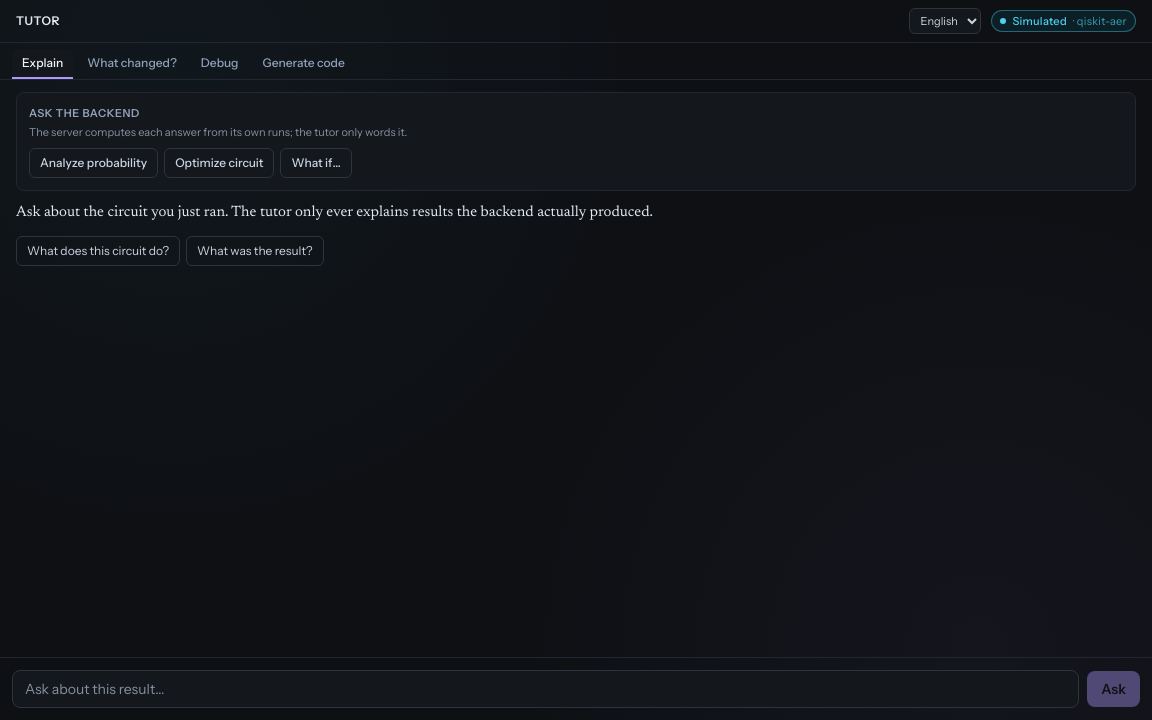
Test case: TutorPanel › renders a grounded answer with its facts and provenance reference
The image size is (1152, 720).
Type "What was the result?" into the field with placeholder "Ask about this result…" at (546,689), box [12,670,1079,708]
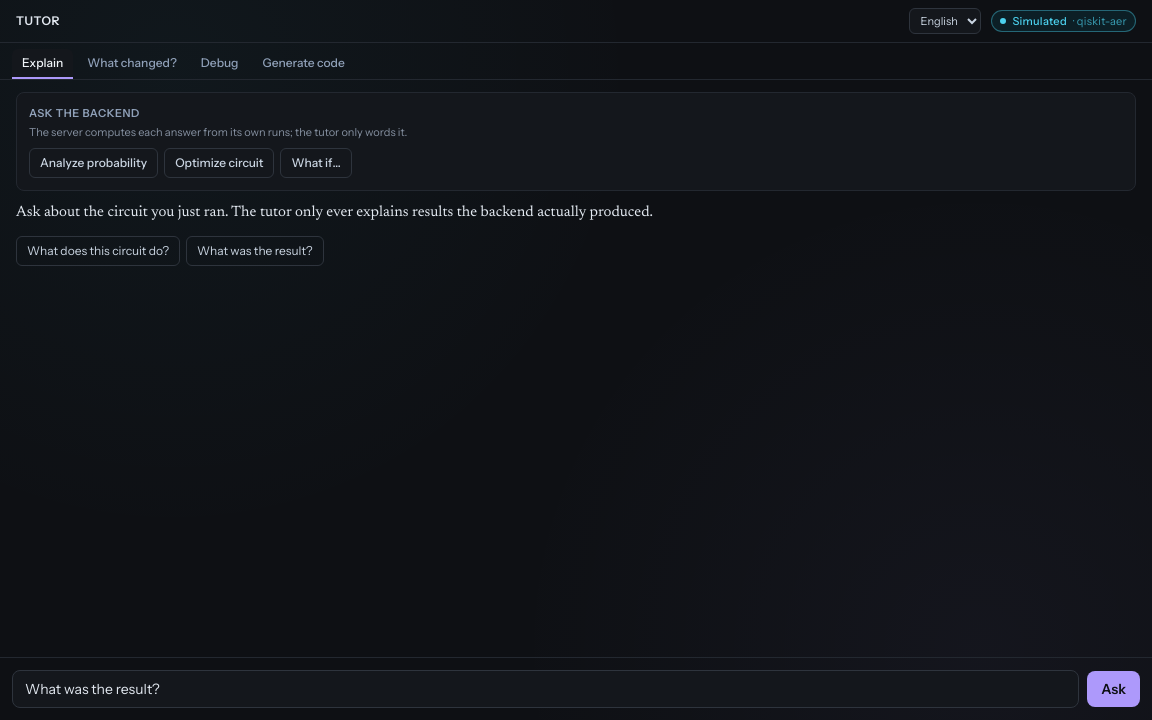
Click the button "Ask" at (1114,689), box [1087,671,1140,707]
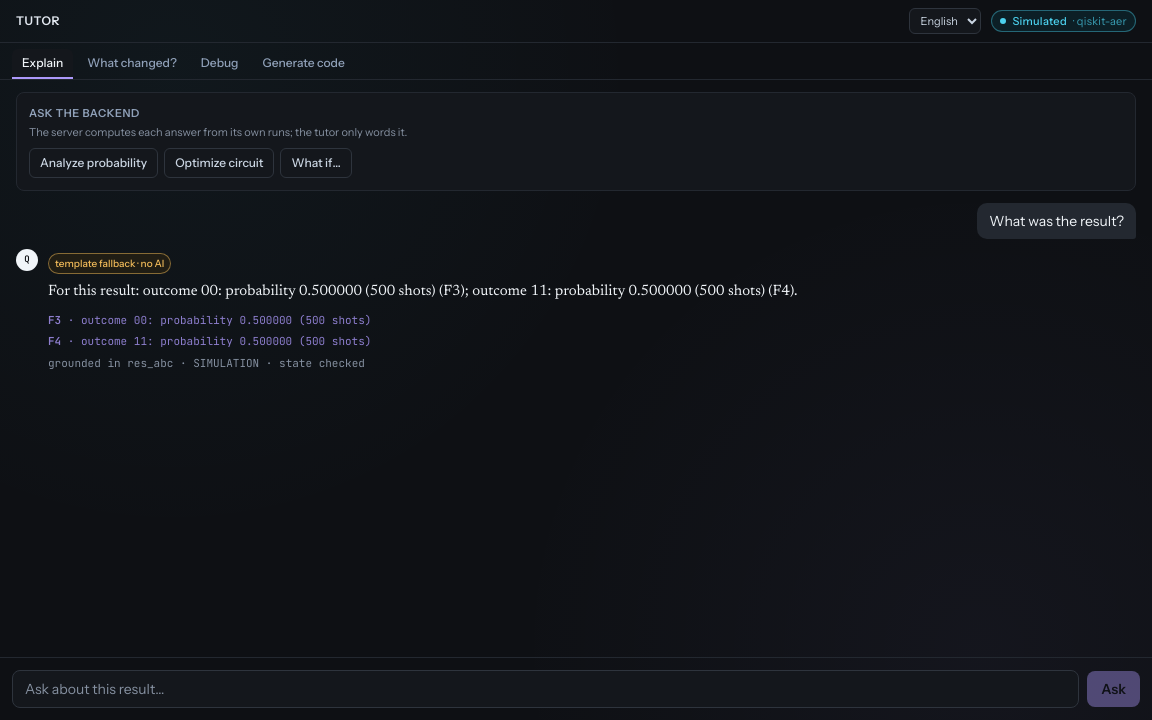
Result: the text "F3" is shown at [48,284,798,299]
Result: the text "grounded in res_abc · SIMULATION · state checked" is shown at [48,356,365,370]
Result: the text "template fallback · no AI" is shown at [48,253,171,274]
